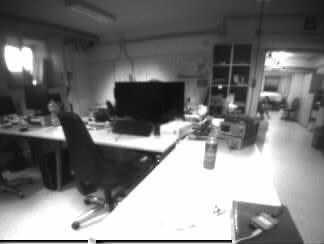Tin can: (203, 139, 215, 169)
